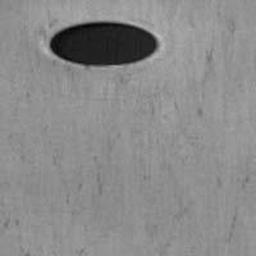Punching: (47, 20, 156, 69)
